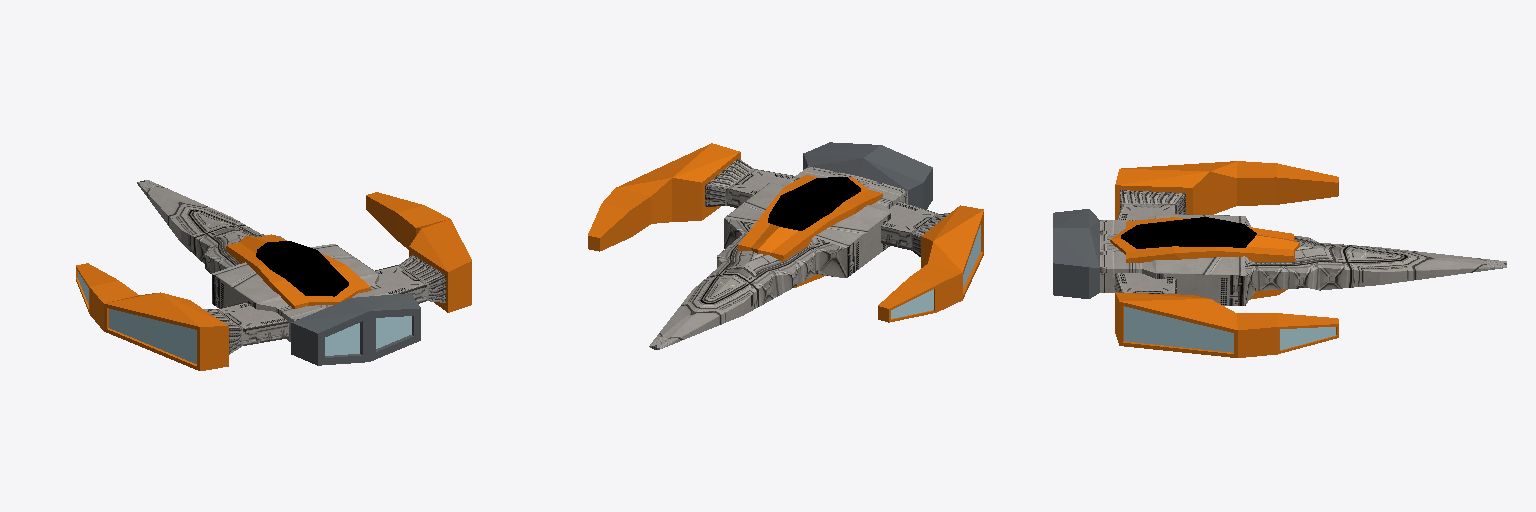
3 views of the same model, side by side, from view 1: azimuth 30°, elevation 25°; view 2: azimuth 150°, elevation 25°; view 3: azimuth 270°, elevation 25° (orthographic).
Parts seen in each view (by area): view 1: Cube, Cube.001, Cube.002; view 2: Cube, Cube.002, Cube.001; view 3: Cube, Cube.002, Cube.001.
Part boxes in pixels (bbox=[...]): Cube: bbox=[76, 180, 471, 370]; Cube.001: bbox=[256, 241, 348, 296]; Cube.002: bbox=[225, 234, 370, 308]; Cube: bbox=[588, 142, 983, 349]; Cube.002: bbox=[737, 175, 882, 287]; Cube.001: bbox=[768, 177, 860, 230]; Cube: bbox=[1053, 161, 1506, 357]; Cube.002: bbox=[1110, 217, 1299, 299]; Cube.001: bbox=[1121, 217, 1256, 248].
Size of the model in its own units: 9.89 by 1.71 by 11.2.
1 materials, 1 textured.